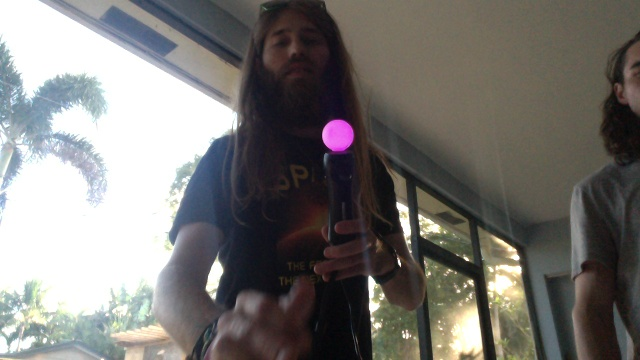wand: (322, 120, 354, 152)
